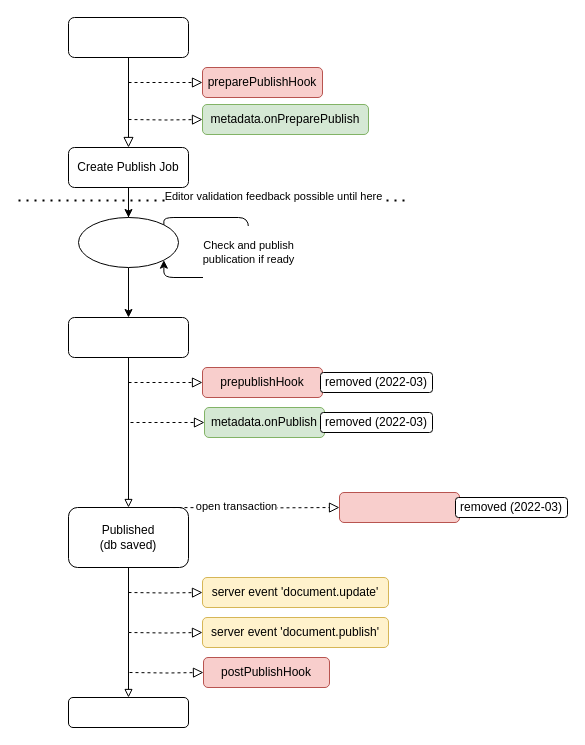
Image size: 585x745. Some labels were removed from this diagram. The centre of each missing label's shape, as x and y in pixels:
End: the point at 128,712
Prepare Publish: the point at 128,37
publishHook: the point at 399,507
Start Publish: the point at 128,337
Worker: the point at 128,242
